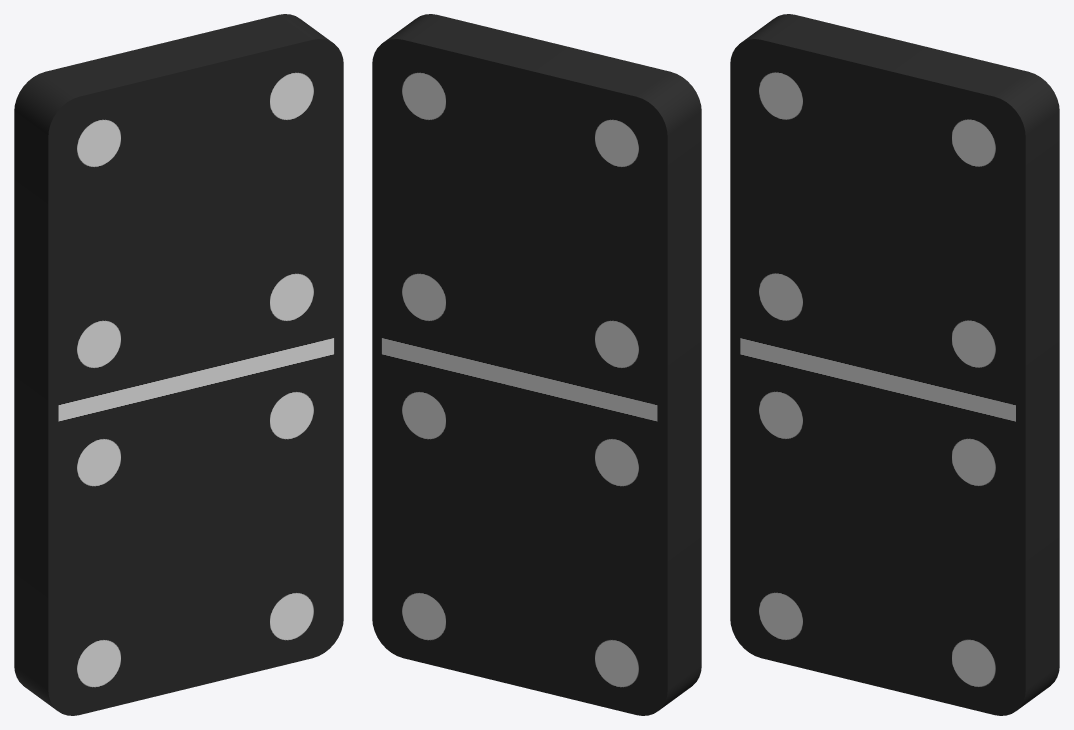
File: Domino.fbx
3 views of the same model, side by side, from view 1: azimuth 30°, elevation 25°; view 2: azimuth 150°, elevation 25°; view 3: azimuth 330°, elevation 25° (orthographic).
Visible parts, largest first — view 1: Domino; view 2: Domino; view 3: Domino.
Part boxes in pixels (box(x1,y1,x2,y2)): Domino: box(14, 14, 343, 715); Domino: box(372, 14, 701, 715); Domino: box(730, 14, 1059, 715).
Size of the model in its own units: 200 by 400 by 40.
